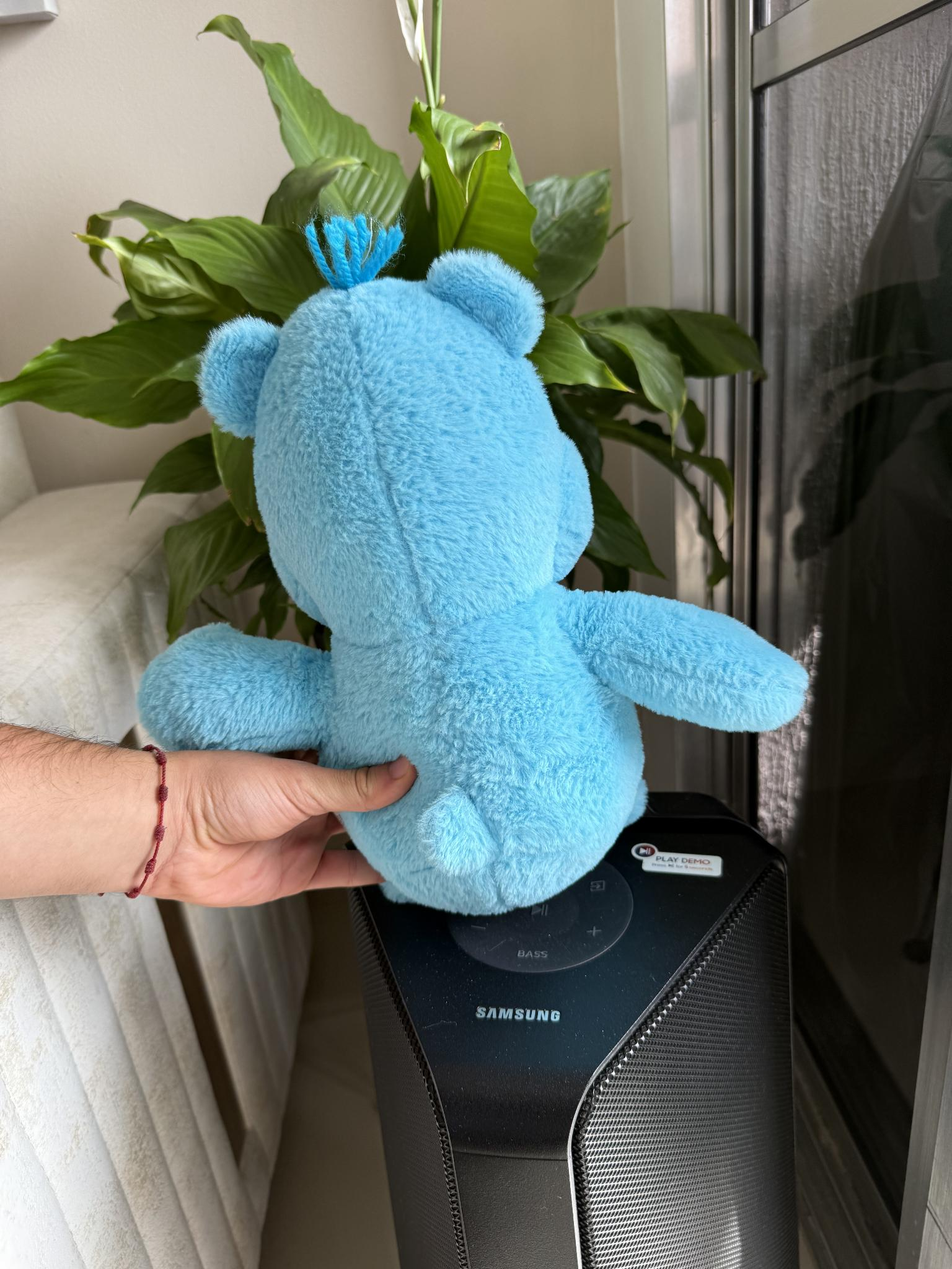peluche_Juan Jose: (136, 212, 808, 915)
